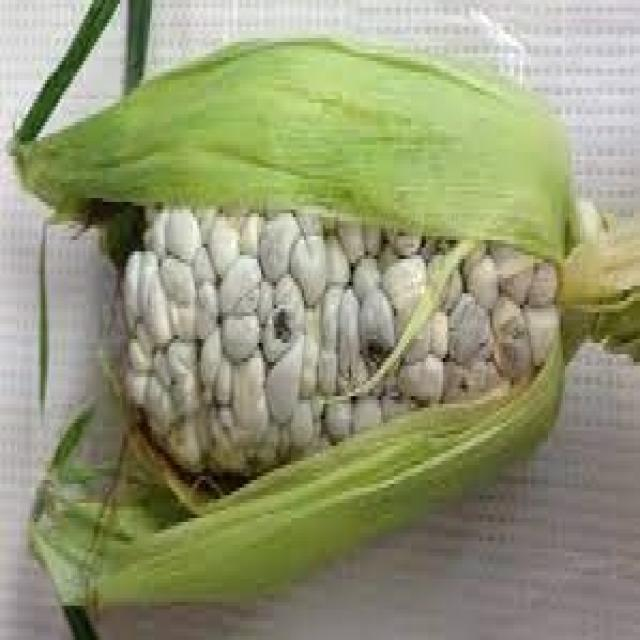Leaf_Scald: (73, 55, 544, 570)
